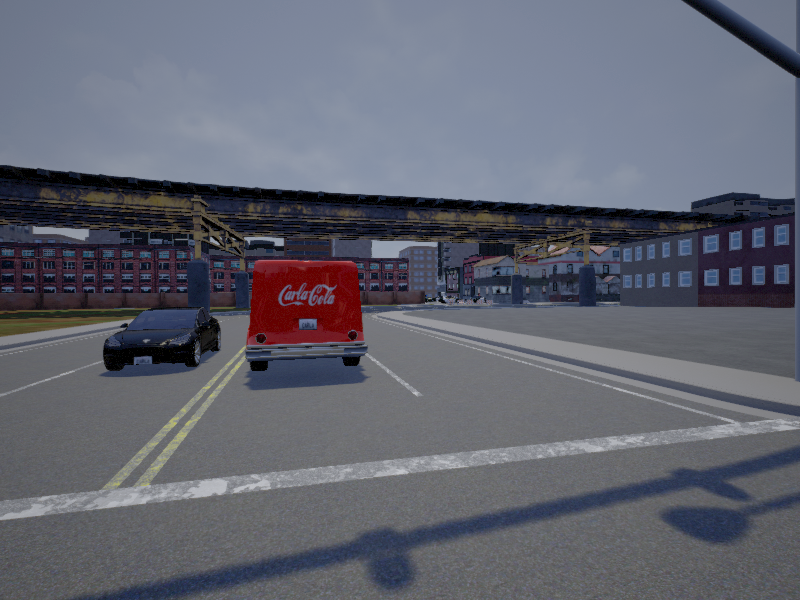Benign: (242, 258, 367, 370), (103, 306, 223, 368)
